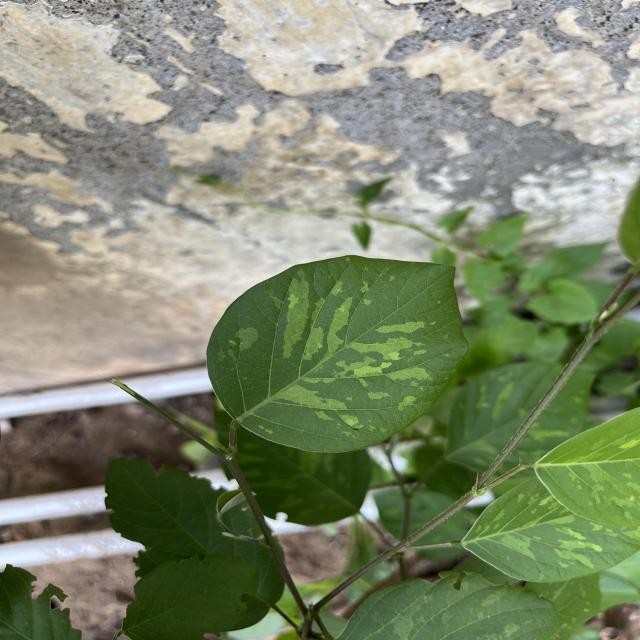Desmodium gangeticum: (200, 249, 475, 456)
